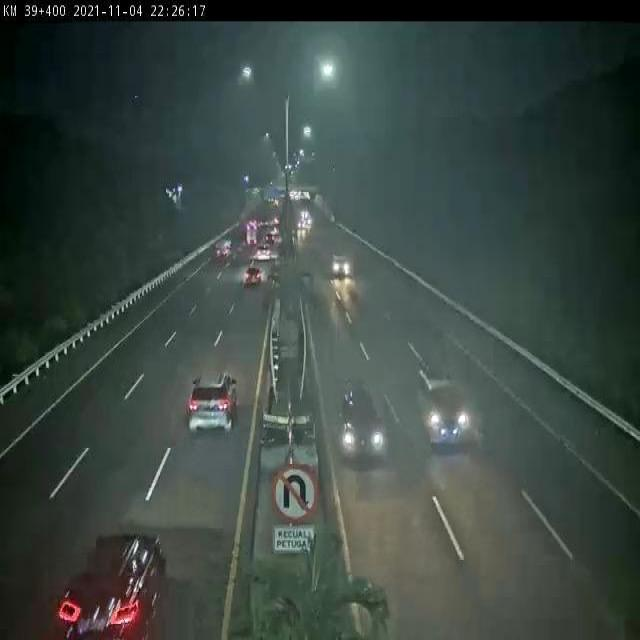car: (78, 520, 168, 636), (406, 365, 491, 459), (186, 369, 244, 435), (338, 380, 383, 465), (331, 250, 356, 290)
